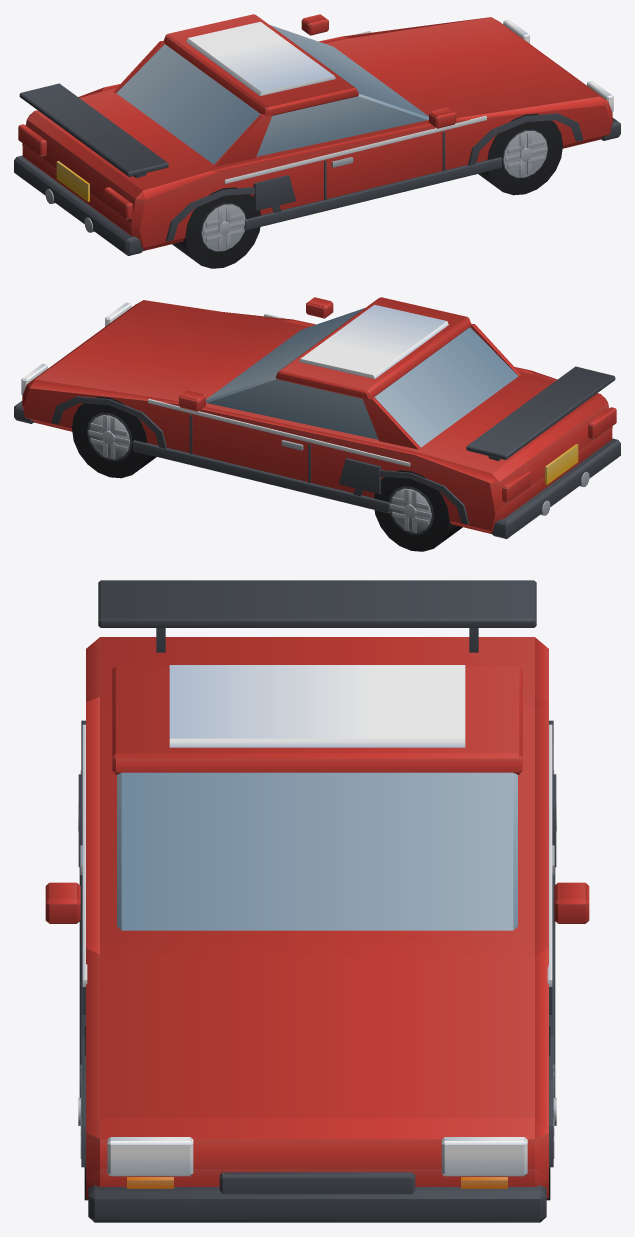
Rendered from ck_car_sports.fbx.
The picture shows the model from 3 angles, top to bottom: view 1: azimuth 30°, elevation 25°; view 2: azimuth 150°, elevation 25°; view 3: azimuth 270°, elevation 25°; orthographic projection. The views are drawn at different scales.
Visible parts, largest first — view 1: ck_car_sports; view 2: ck_car_sports; view 3: ck_car_sports.
Boxes of the visible parts, x1,y1,x2,y2 form: ck_car_sports: (14, 14, 620, 268); ck_car_sports: (14, 297, 620, 551); ck_car_sports: (45, 580, 589, 1222).
Size of the model in its own units: 1470 by 412 by 697.
